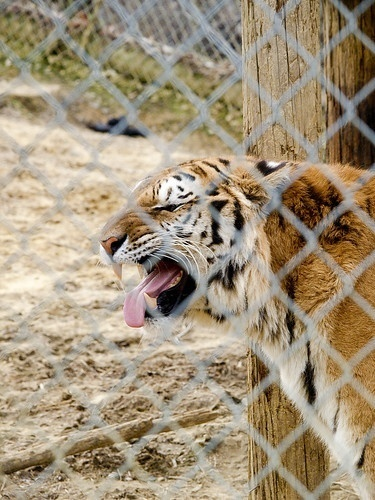tigre: (99, 152, 375, 490)
